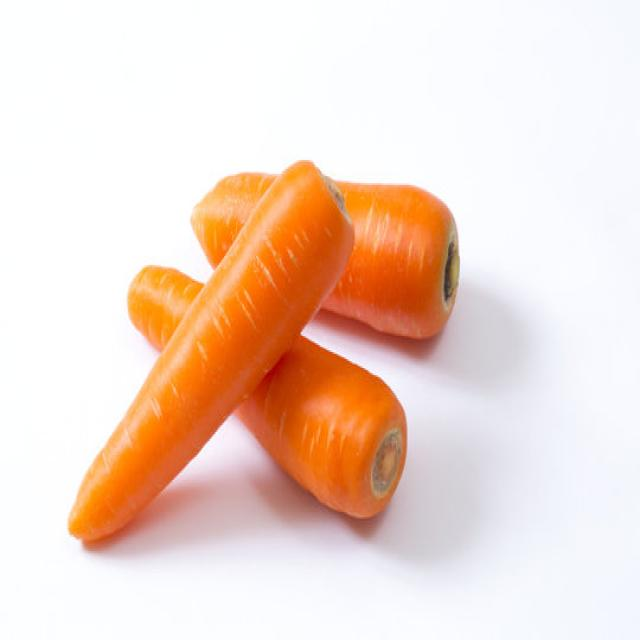Carrot: (66, 157, 354, 542), (125, 261, 408, 519), (190, 166, 460, 340)
